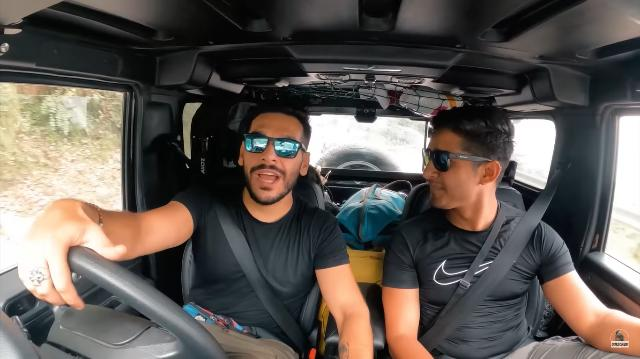seatbelt: (417, 162, 569, 358), (172, 178, 350, 344)
